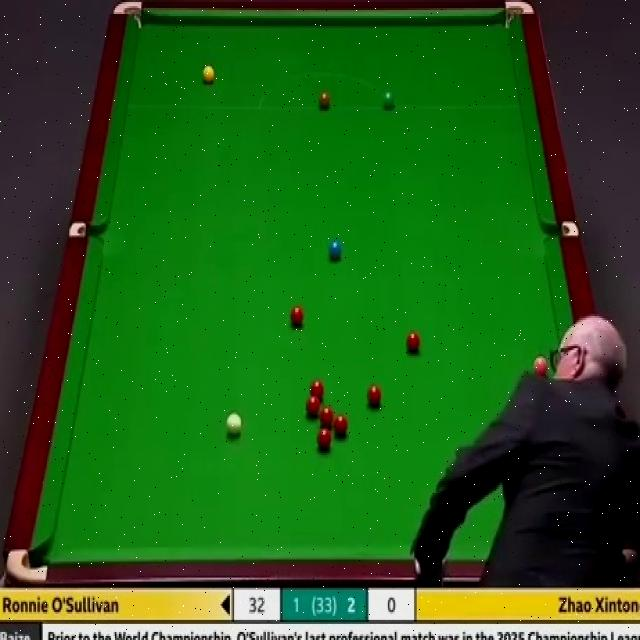blue-ball: (329, 238, 342, 261)
brown-ball: (318, 92, 332, 110)
green-ball: (382, 91, 394, 111)
pink-ball: (532, 356, 549, 378)
red-ball: (367, 383, 384, 410), (289, 307, 306, 328), (334, 413, 348, 438), (306, 396, 320, 420), (317, 428, 331, 451), (320, 409, 335, 430), (407, 331, 420, 354), (310, 380, 323, 402)
white-ball: (225, 410, 242, 440)
yellow-ball: (202, 64, 215, 86)
